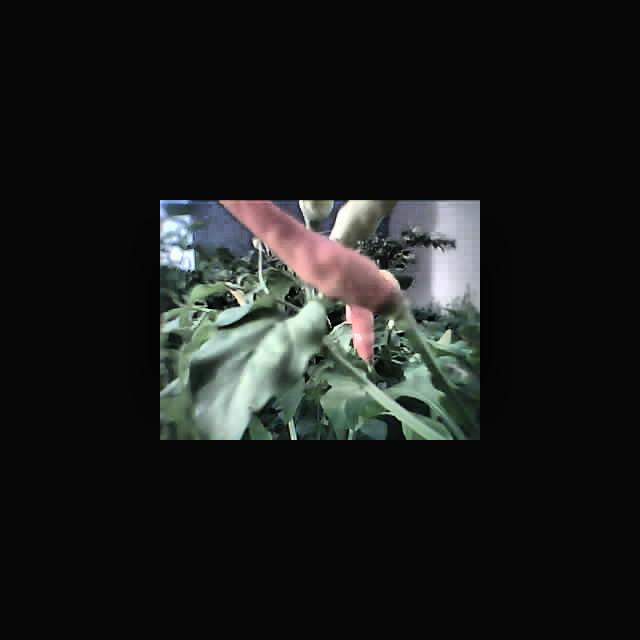Cabai: (223, 200, 305, 235), (348, 272, 381, 353)
